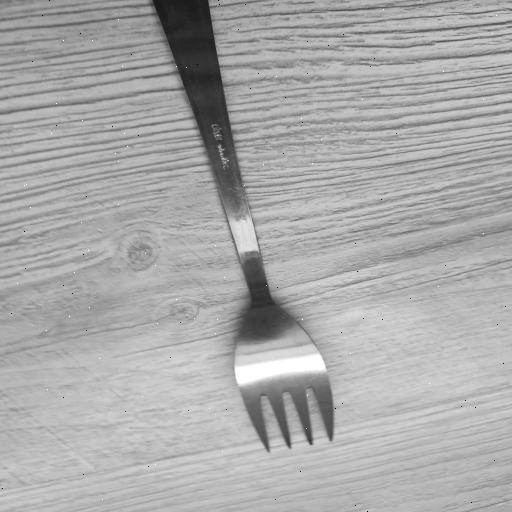fork: (148, 0, 342, 452)
